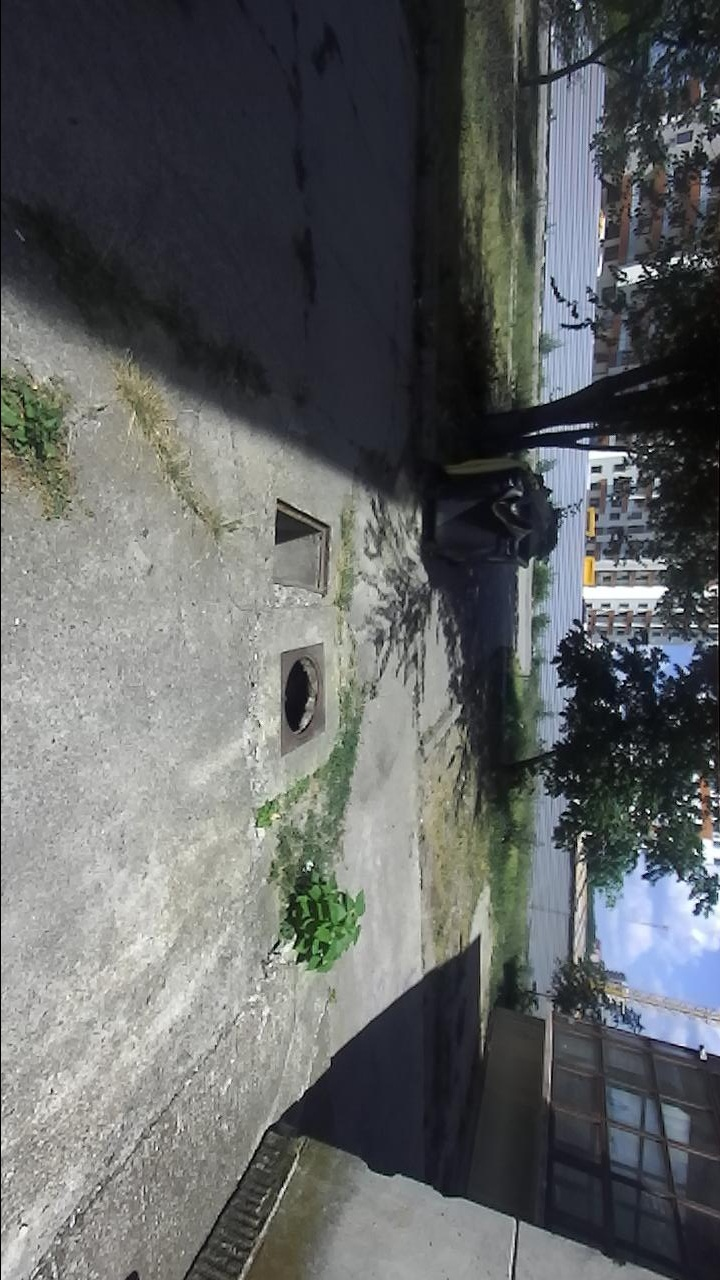drain: (272, 493, 334, 602), (284, 652, 324, 741)
